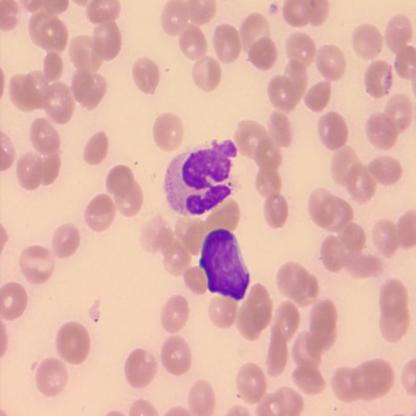Blast: (161, 136, 240, 219), (196, 226, 254, 307)
